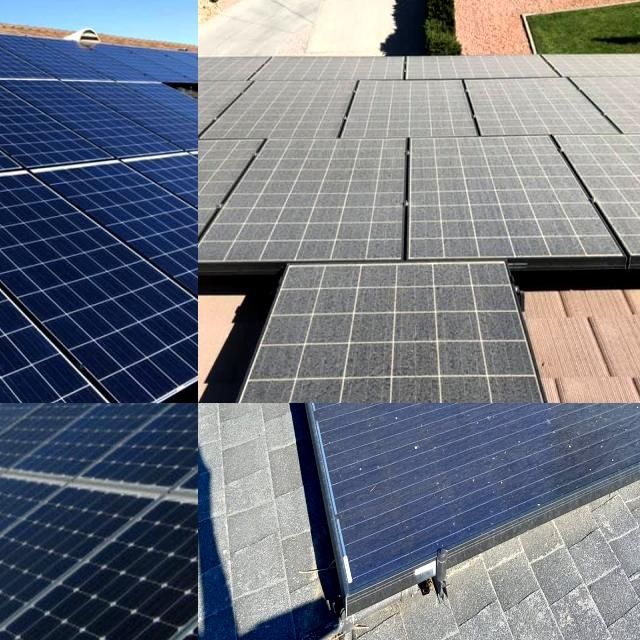crack: (0, 161, 198, 403), (0, 180, 198, 403), (34, 145, 198, 343), (0, 57, 174, 176), (0, 66, 127, 216), (0, 54, 114, 195), (0, 56, 115, 191), (79, 69, 198, 162), (0, 0, 95, 108), (0, 0, 83, 95), (0, 8, 79, 97)
dust: (407, 271, 522, 403), (428, 150, 554, 252), (268, 150, 391, 248), (286, 268, 389, 382), (357, 403, 458, 515), (491, 403, 554, 514), (394, 403, 504, 463), (358, 79, 461, 136), (297, 403, 379, 468), (492, 82, 582, 128), (250, 82, 335, 130), (596, 153, 640, 239), (198, 143, 234, 248), (374, 403, 454, 437), (269, 403, 356, 434), (198, 88, 221, 132)
panel: (0, 494, 40, 640), (0, 513, 36, 611), (0, 566, 42, 640), (0, 414, 49, 474), (0, 455, 23, 517), (0, 431, 24, 483), (0, 414, 26, 451), (0, 422, 24, 458), (0, 411, 24, 441)
